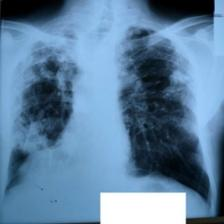tuberculosis: (0, 21, 215, 205)
